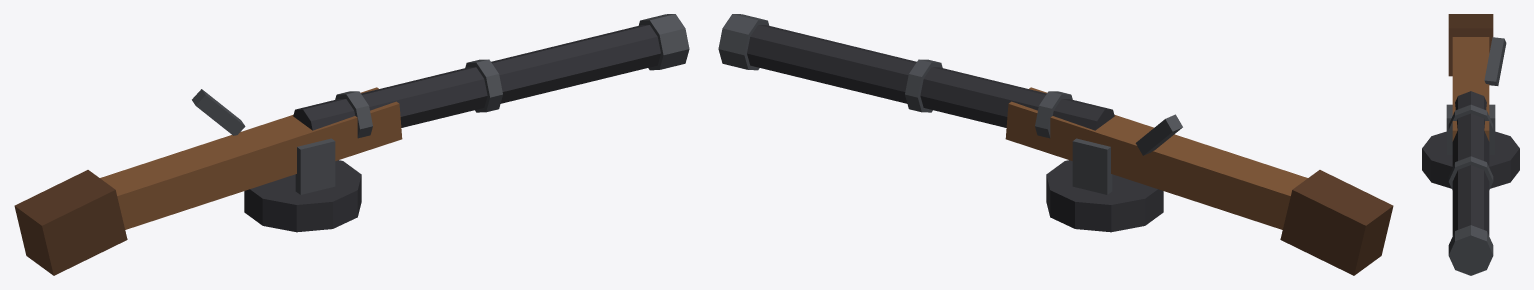
The model's file is vfem2_arquebus_turret_gun.obj.
3 views of the same model, side by side, from view 1: azimuth 30°, elevation 25°; view 2: azimuth 150°, elevation 25°; view 3: azimuth 270°, elevation 25° (orthographic). The views are drawn at different scales.
Visible parts, largest first — view 1: vfem2_arquebus_turret_gun; view 2: vfem2_arquebus_turret_gun; view 3: vfem2_arquebus_turret_gun.
Boxes of the visible parts, x1,y1,x2,y2 form: vfem2_arquebus_turret_gun: [14, 14, 689, 275]; vfem2_arquebus_turret_gun: [718, 14, 1393, 275]; vfem2_arquebus_turret_gun: [1422, 14, 1519, 275].
Size of the model in its own units: 1.49 by 0.2708 by 0.24.
